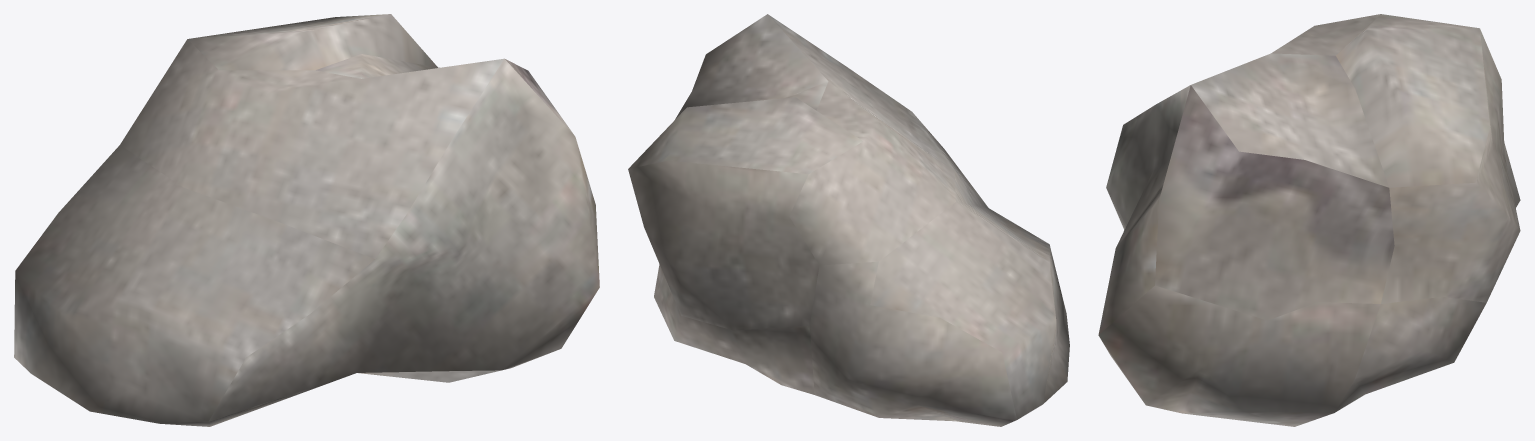
The model's file is Q_Limestone_9.fbx.
The picture shows the model from 3 angles, left to right: view 1: azimuth 30°, elevation 25°; view 2: azimuth 150°, elevation 25°; view 3: azimuth 270°, elevation 25°; orthographic projection. The views are drawn at different scales.
Parts seen in each view (by area): view 1: Aset_stone_rough_S_udmhajrva_03_LOD6; view 2: Aset_stone_rough_S_udmhajrva_03_LOD6; view 3: Aset_stone_rough_S_udmhajrva_03_LOD6.
Part boxes in pixels (x1=…): Aset_stone_rough_S_udmhajrva_03_LOD6: x1=14, y1=14, x2=599, y2=426; Aset_stone_rough_S_udmhajrva_03_LOD6: x1=628, y1=14, x2=1069, y2=426; Aset_stone_rough_S_udmhajrva_03_LOD6: x1=1098, y1=14, x2=1520, y2=426.
Bounding box in the file's own units: 25.51 × 17.43 × 18.82.
1 material, 1 textured.
